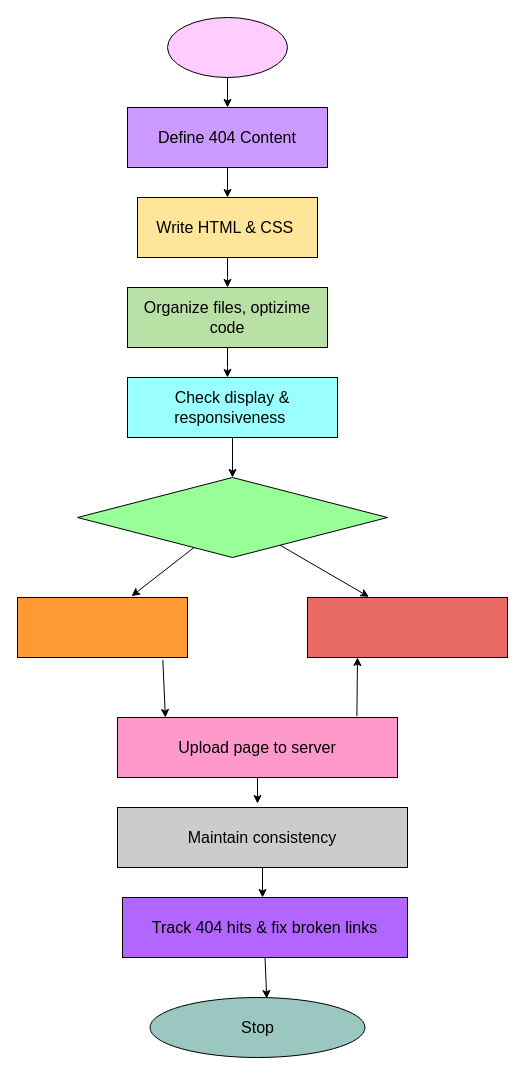
This 525x1075 diagram has some shape labels left out. The centre of each missing label's shape, as x and y in pixels:
Fix issues: (407,627)
Is the page working properly?: (232,517)
Release Approve Merge code: (102,627)
Start: (227,47)
